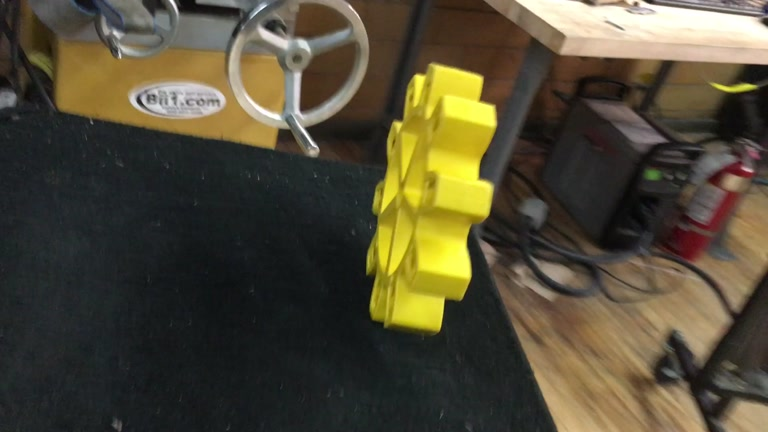gear: (364, 62, 497, 335)
